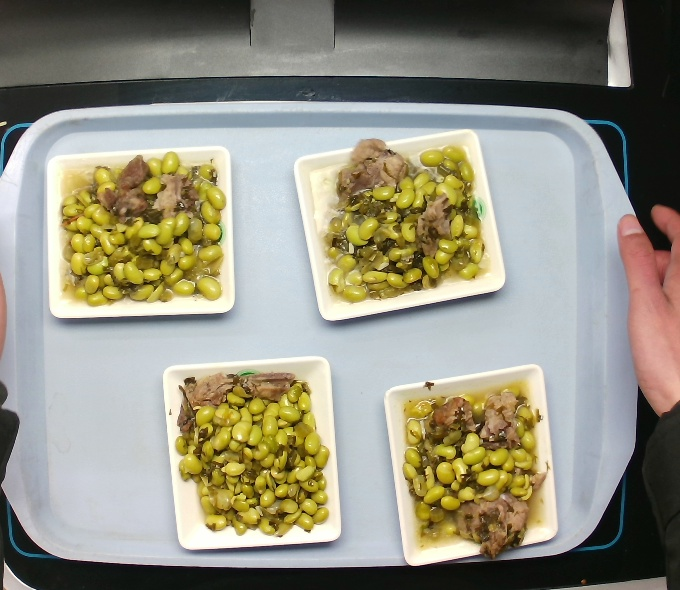wcq-ZhuRouDunDou: (321, 143, 498, 306), (174, 369, 338, 537), (54, 148, 221, 308), (409, 385, 542, 552)
